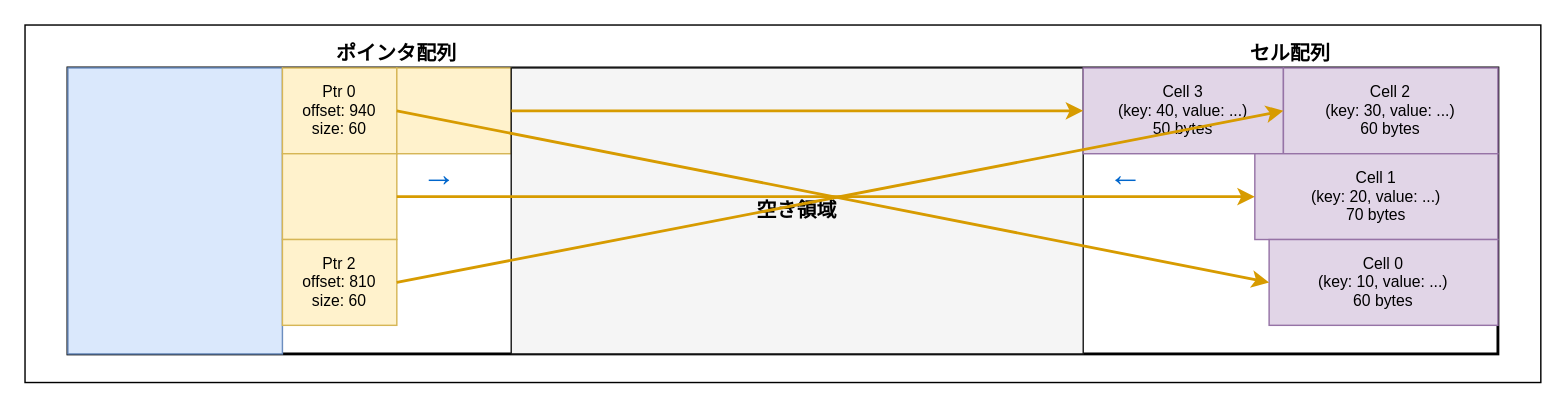
The diagram is 1566 pixels wide and 408 high, and some of its shapes have lost their labels. Here are the shapes that lost their labels. From the top down, the centre of each, then its label:
the point at 453,110: Ptr 3 offset: 760 size: 50
the point at 174,210: ヘッダー (メタデータ)
the point at 339,196: Ptr 1 offset: 870 size: 70
